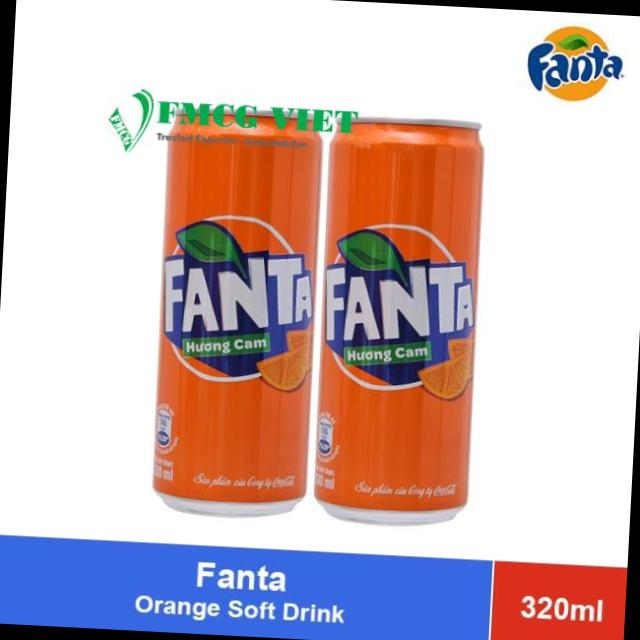fanta: (143, 98, 334, 518), (298, 108, 484, 528)
